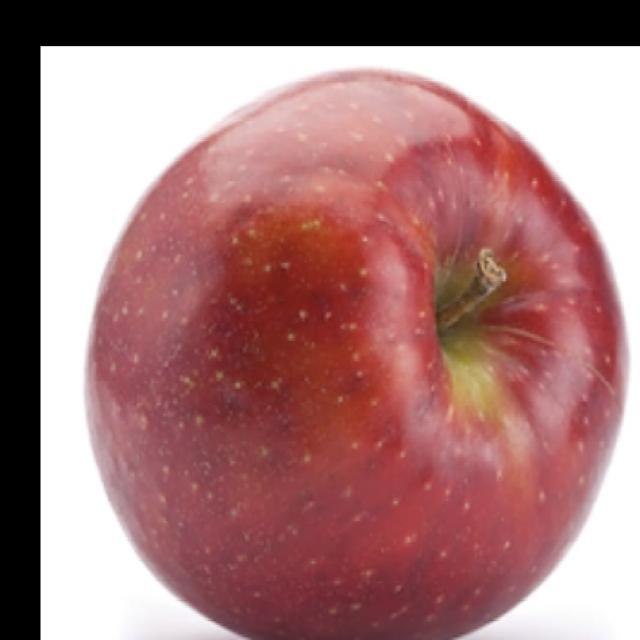Fresh Apple: (103, 82, 617, 630)
